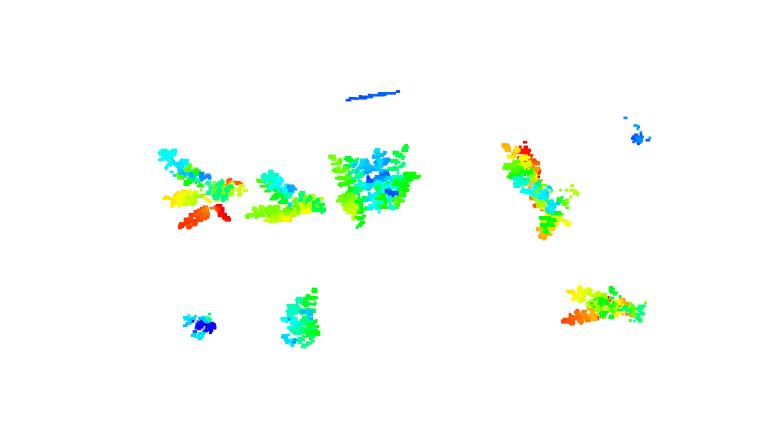chickpea: (501, 139, 582, 243), (326, 141, 420, 230), (154, 147, 247, 231), (242, 168, 329, 226), (559, 283, 646, 330), (278, 282, 325, 350), (181, 310, 221, 343)
